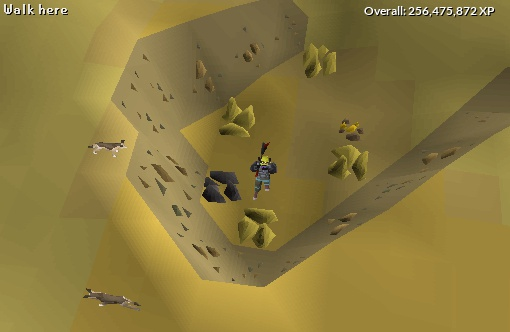depleted: (201, 165, 245, 208)
gold: (238, 206, 286, 250), (329, 143, 378, 183), (217, 98, 264, 139)
